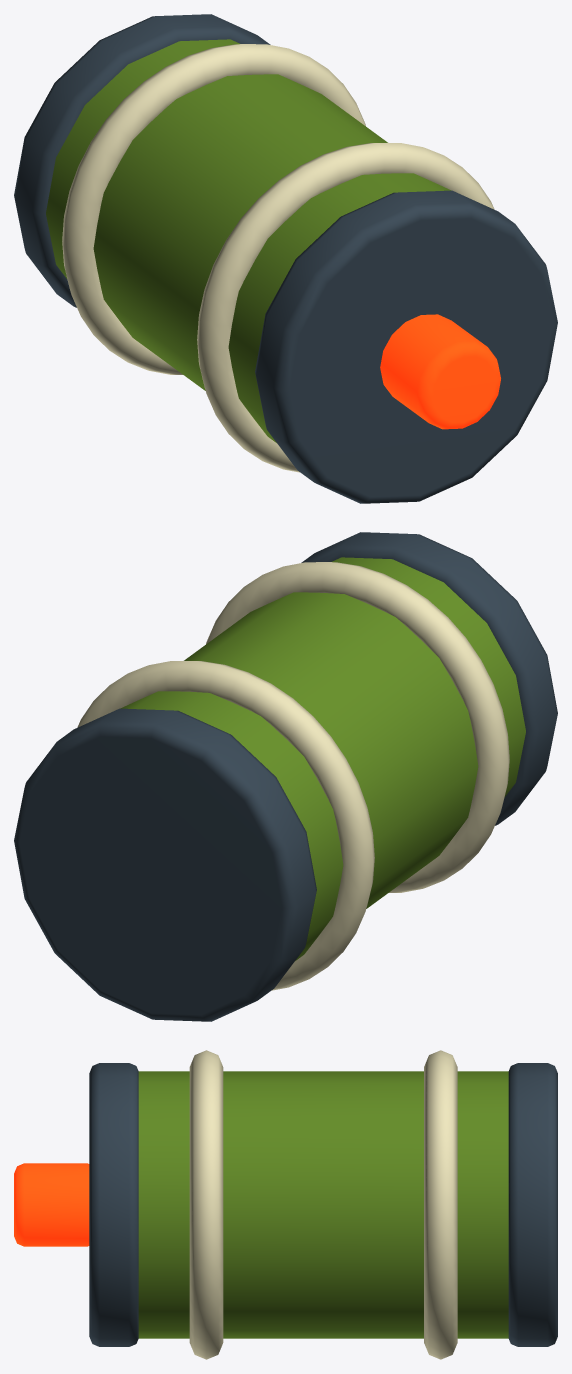
Rendered from Duke_Normal.fbx.
3 views of the same model, one above another, from view 1: azimuth 30°, elevation 25°; view 2: azimuth 150°, elevation 25°; view 3: azimuth 270°, elevation 25° (orthographic). The views are drawn at different scales.
Parts seen in each view (by area): view 1: Sealed end.001, Chemical canister, Safety strap, Safety strap.001, Sealed end, Valve; view 2: Sealed end, Chemical canister, Safety strap.001, Safety strap, Sealed end.001; view 3: Chemical canister, Sealed end, Sealed end.001, Safety strap.001, Safety strap, Valve.
Boxes of the visible parts, box(x1,y1,x2,y2) form: Sealed end.001: box(255, 190, 557, 503); Chemical canister: box(46, 39, 451, 442); Safety strap: box(62, 44, 365, 374); Safety strap.001: box(197, 143, 494, 472); Sealed end: box(14, 14, 270, 307); Valve: box(380, 314, 500, 429); Sealed end: box(14, 708, 316, 1021); Chemical canister: box(120, 557, 525, 960); Safety strap.001: box(206, 562, 509, 892); Safety strap: box(77, 661, 374, 990); Sealed end.001: box(301, 532, 557, 825); Chemical canister: box(138, 1071, 508, 1338); Sealed end: box(508, 1063, 557, 1346); Sealed end.001: box(89, 1063, 138, 1346); Safety strap.001: box(189, 1050, 223, 1359); Safety strap: box(424, 1050, 457, 1359); Valve: box(14, 1163, 89, 1246).
Size of the model in its own units: 74 by 74 by 130.
